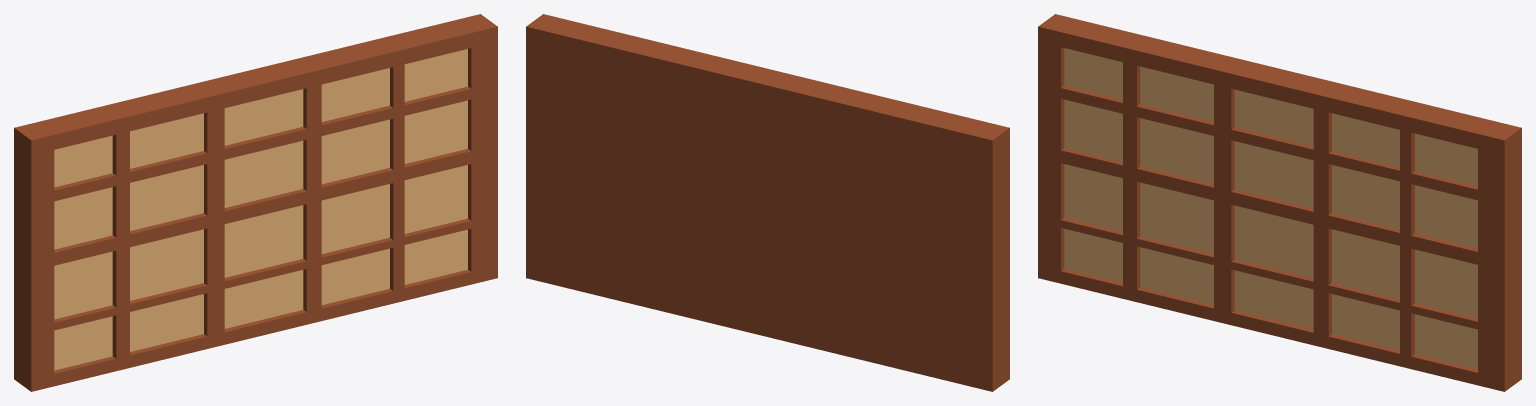
File: japanese_pencere.fbx
3 renders of one model, left to right at view 1: azimuth 30°, elevation 25°; view 2: azimuth 150°, elevation 25°; view 3: azimuth 330°, elevation 25°, orthographic.
Parts seen in each view (by area): view 1: Plane.001; view 2: Plane.001; view 3: Plane.001.
Part boxes in pixels (left/top/right/bottom): Plane.001: left=14, top=14, right=497, bottom=391; Plane.001: left=526, top=14, right=1009, bottom=391; Plane.001: left=1038, top=14, right=1521, bottom=391.
Size of the model in its own units: 110 by 56.73 by 7.05.
